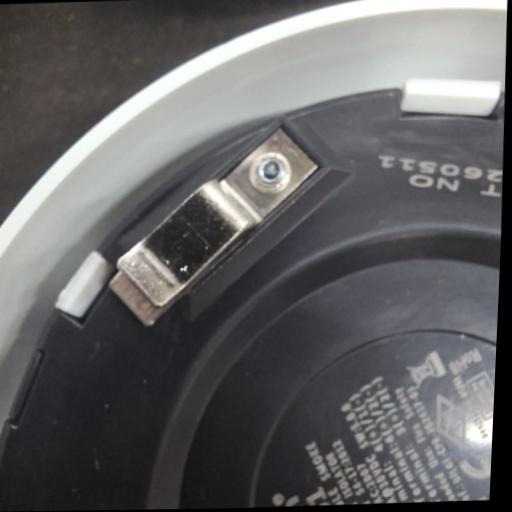yayli: (105, 124, 325, 326)
